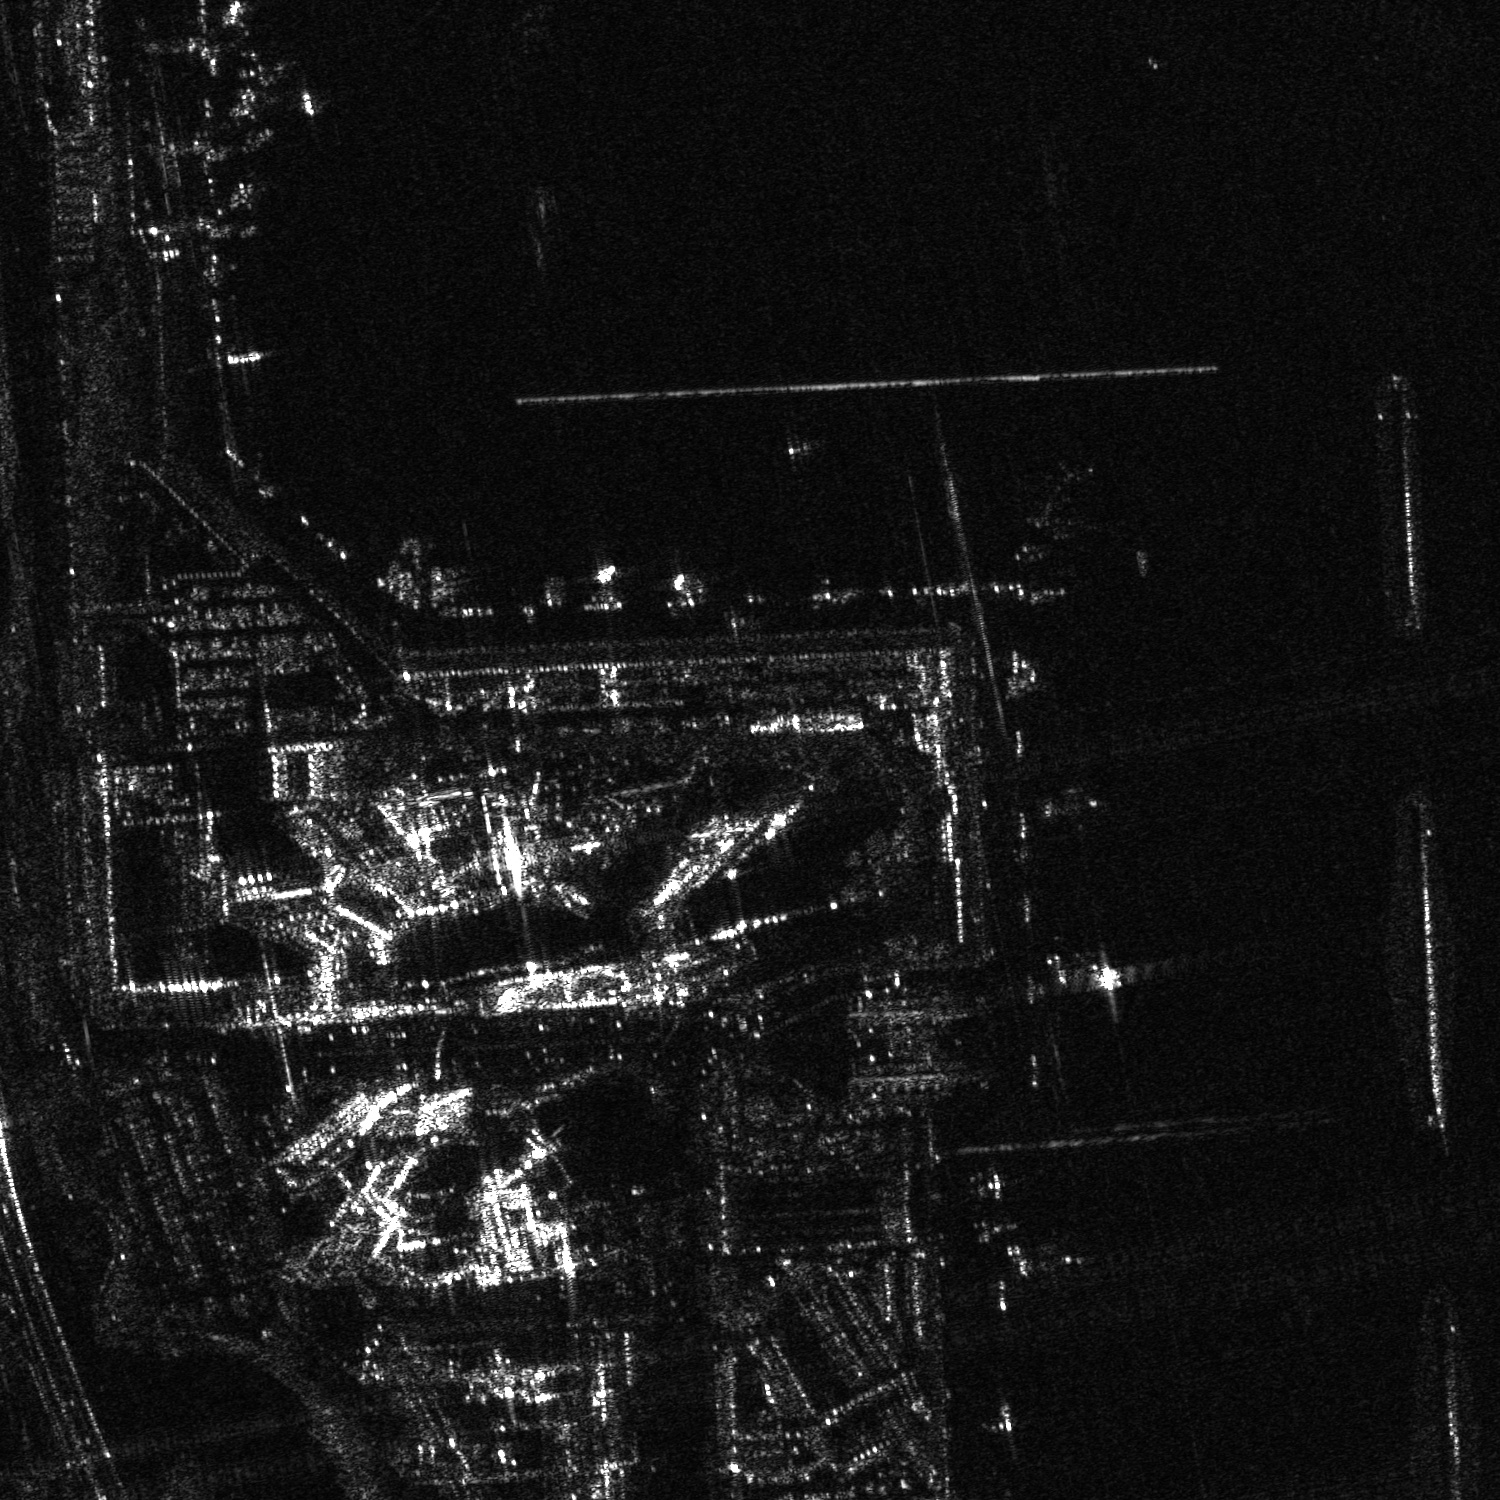A220: (1033, 919, 1152, 1019), (988, 1234, 1093, 1291), (1034, 773, 1113, 842)
A320/321: (984, 451, 1115, 576)
